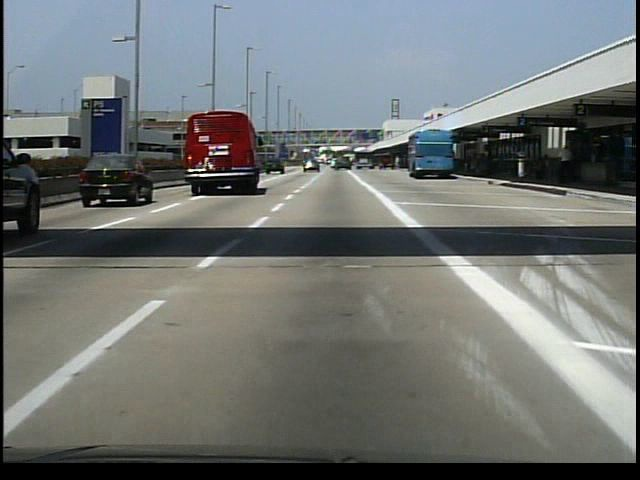person: (558, 143, 575, 186)
